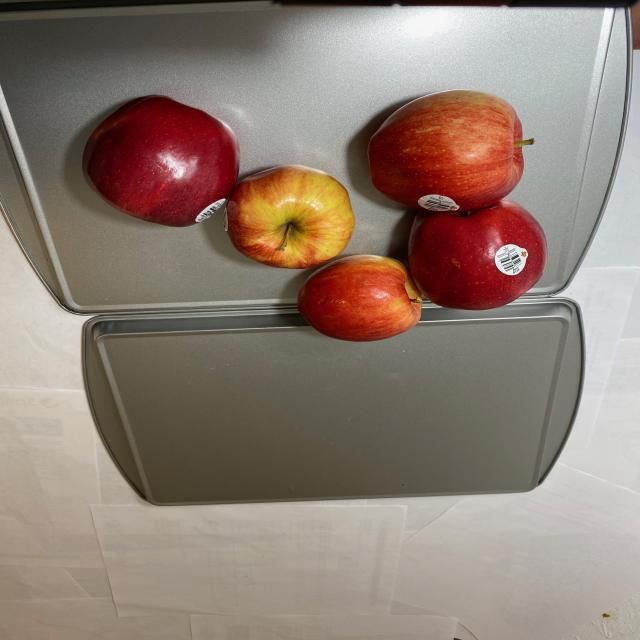apple: (78, 77, 546, 343)
